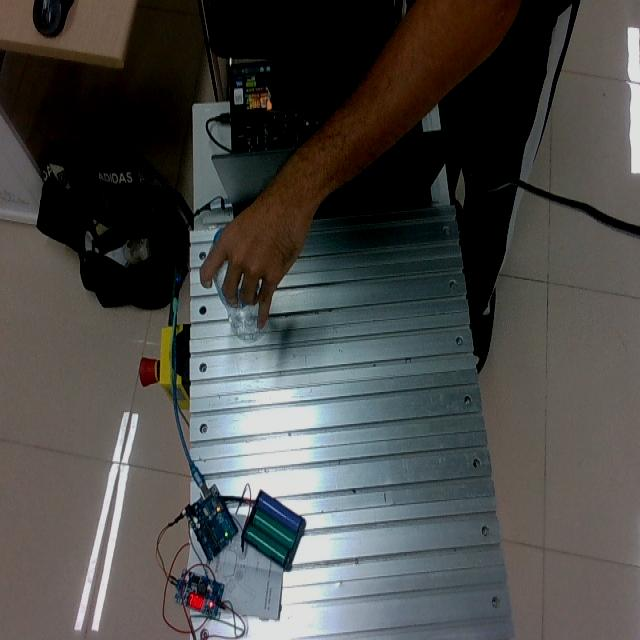lavie: (211, 230, 266, 342)
